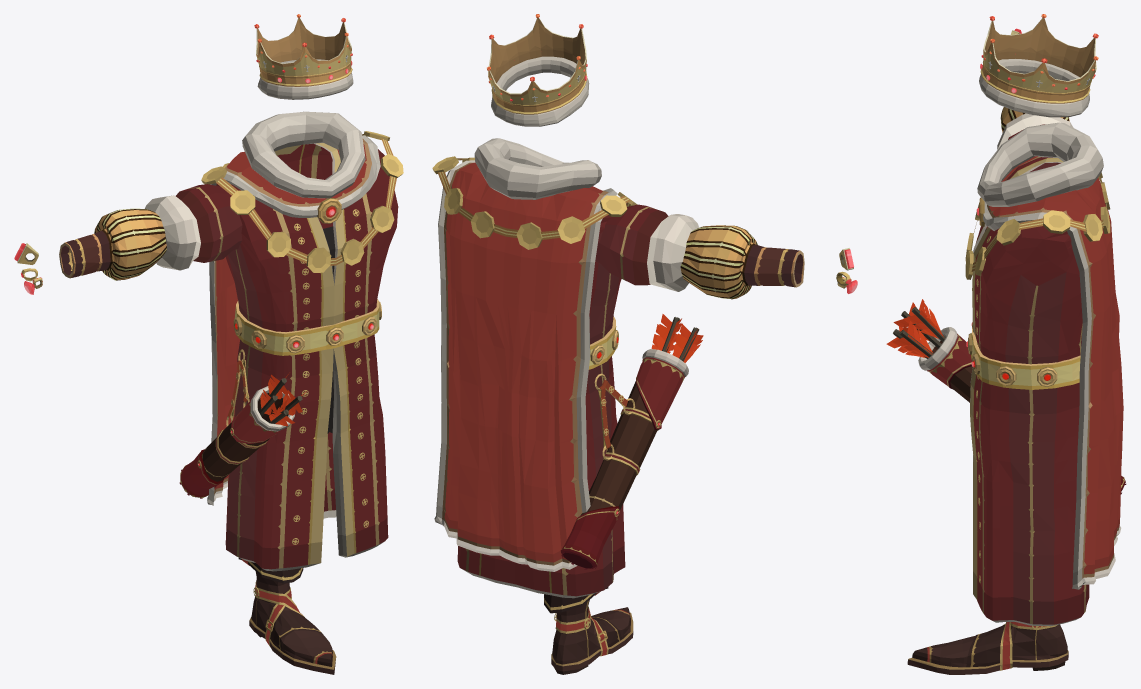
The model's file is king.glb.
3 renders of one model, left to right at view 1: azimuth 30°, elevation 25°; view 2: azimuth 150°, elevation 25°; view 3: azimuth 270°, elevation 25°, orthographic. The views are drawn at different scales.
Parts seen in each view (by area): view 1: kingBody, kingCape, kingQuiver, kingCrown, kingSleeveUpperArm, kingSleeveLowerArm, kingBootsFoot, kingBootsLowerLeg, kingRing; view 2: kingCape, kingQuiver, kingBody, kingCrown, kingSleeveLowerArm, kingSleeveUpperArm, kingBootsFoot, kingBootsLowerLeg; view 3: kingBody, kingCape, kingCrown, kingBootsFoot, kingQuiver, kingSleeveUpperArm.
Boxes of the visible parts, <box> form: kingBody: <box>216,143,398,571</box>; kingCape: <box>201,111,403,505</box>; kingQuiver: <box>179,349,306,498</box>; kingCrown: <box>254,14,353,99</box>; kingSleeveUpperArm: <box>145,184,242,270</box>; kingSleeveLowerArm: <box>59,208,166,280</box>; kingBootsFoot: <box>249,594,336,674</box>; kingBootsLowerLeg: <box>238,558,303,605</box>; kingRing: <box>14,243,42,294</box>; kingCape: <box>432,138,637,571</box>; kingQuiver: <box>560,314,703,569</box>; kingBody: <box>457,215,625,598</box>; kingCrown: <box>487,14,589,126</box>; kingSleeveLowerArm: <box>680,225,804,299</box>; kingSleeveUpperArm: <box>595,204,699,291</box>; kingBootsFoot: <box>551,607,633,674</box>; kingBootsLowerLeg: <box>544,587,608,634</box>; kingBody: <box>966,157,1089,626</box>; kingCape: <box>965,122,1123,589</box>; kingCrown: <box>979,14,1098,117</box>; kingBootsFoot: <box>907,622,1068,674</box>; kingQuiver: <box>886,299,1126,494</box>; kingSleeveUpperArm: <box>997,113,1073,171</box>.
Bounding box in the file's own units: 1.38 × 2.04 × 0.6793.
